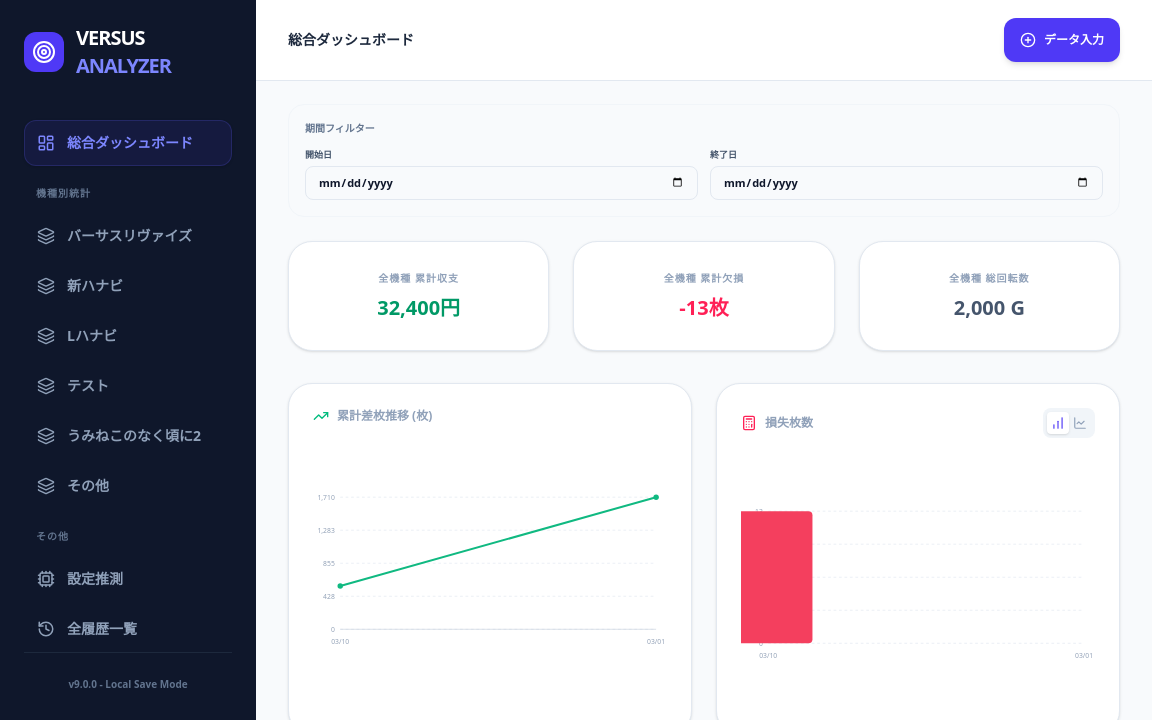
Test: App › returns to the dashboard after saving a new record instead of leaving only the date filter
Click the button "データ入力". click: click(1062, 40)
box: [1004,18,1120,62]
(page scrolled)
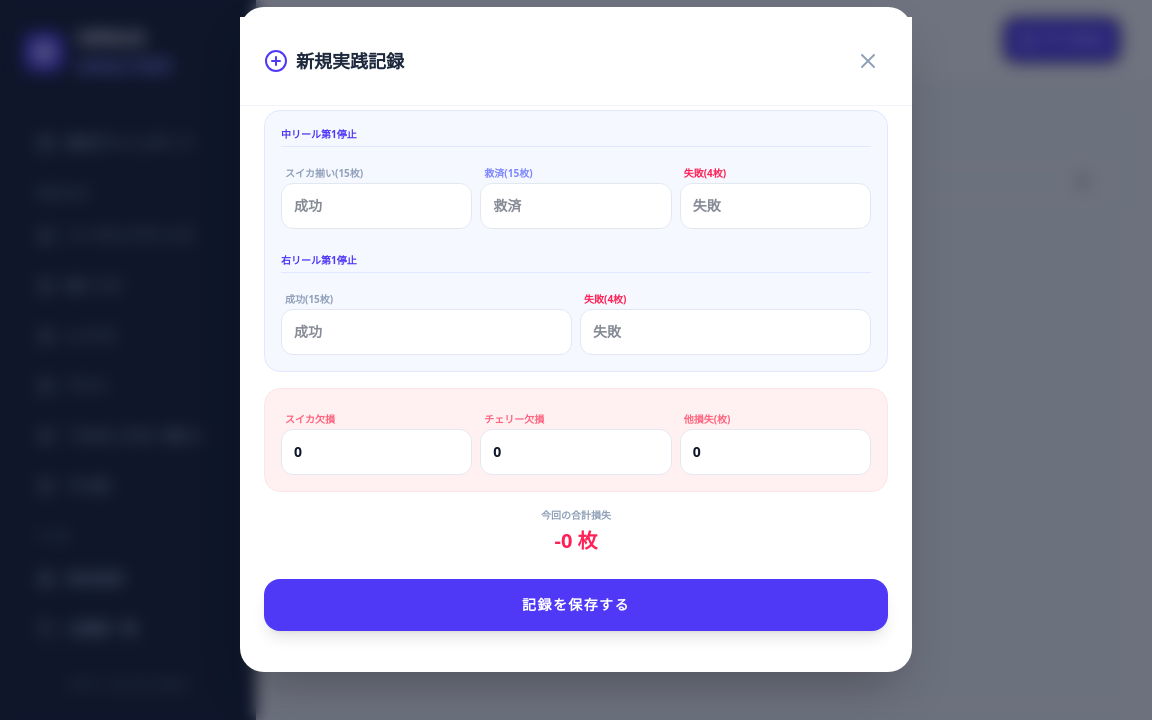
Click the button "記録を保存する". click: click(576, 605)
box: [264,579,888,631]
(page scrolled)
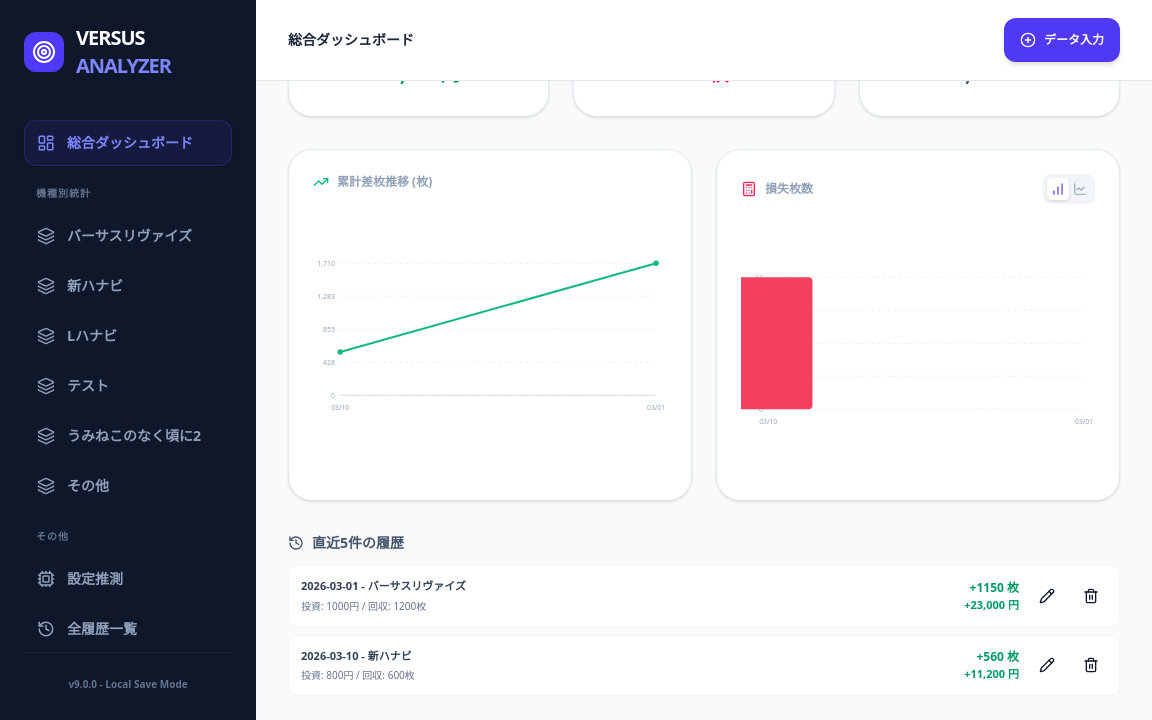
Result: the text "全機種 累計収支" is shown at [378,36,459,50]
Result: the heading "直近5件の履歴" is shown at [288,533,404,552]
